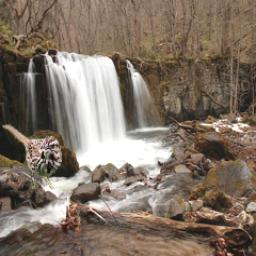Sparrow: (2, 124, 62, 190)
